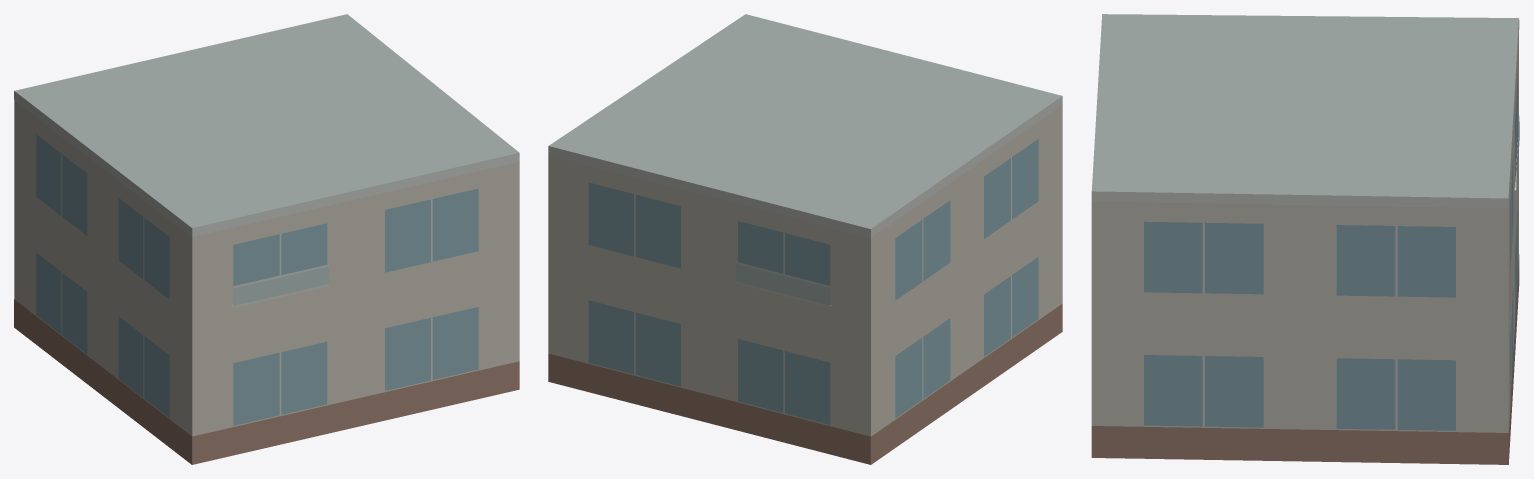
The model's file is survey-upis-32494267.glb.
3 renders of one model, left to right at view 1: azimuth 30°, elevation 25°; view 2: azimuth 150°, elevation 25°; view 3: azimuth 270°, elevation 25°, orthographic. The views are drawn at different scales.
Visible parts, largest first — view 1: survey-upis-32494267.tmp; view 2: survey-upis-32494267.tmp; view 3: survey-upis-32494267.tmp.
Part boxes in pixels (x1,y1,x2,y2): survey-upis-32494267.tmp: [14, 14, 519, 464]; survey-upis-32494267.tmp: [548, 14, 1062, 464]; survey-upis-32494267.tmp: [1091, 14, 1519, 464].
Bounding box in the file's own units: 9.66 × 6.5 × 9.47.
